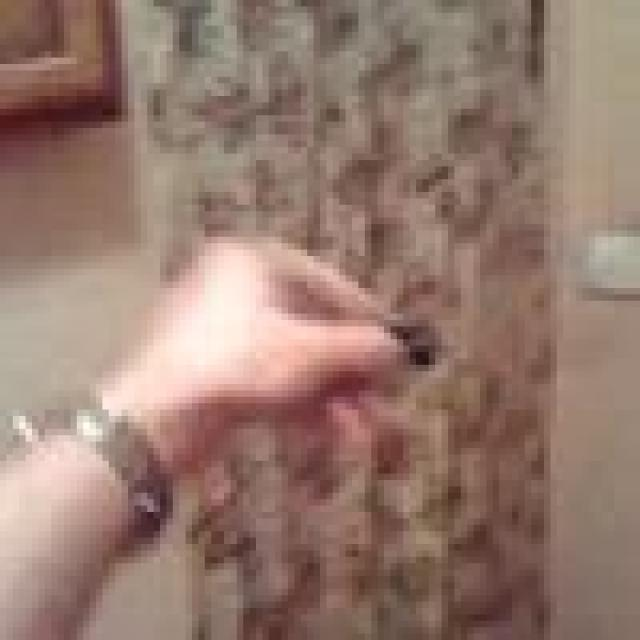knife: (400, 308, 468, 368)
